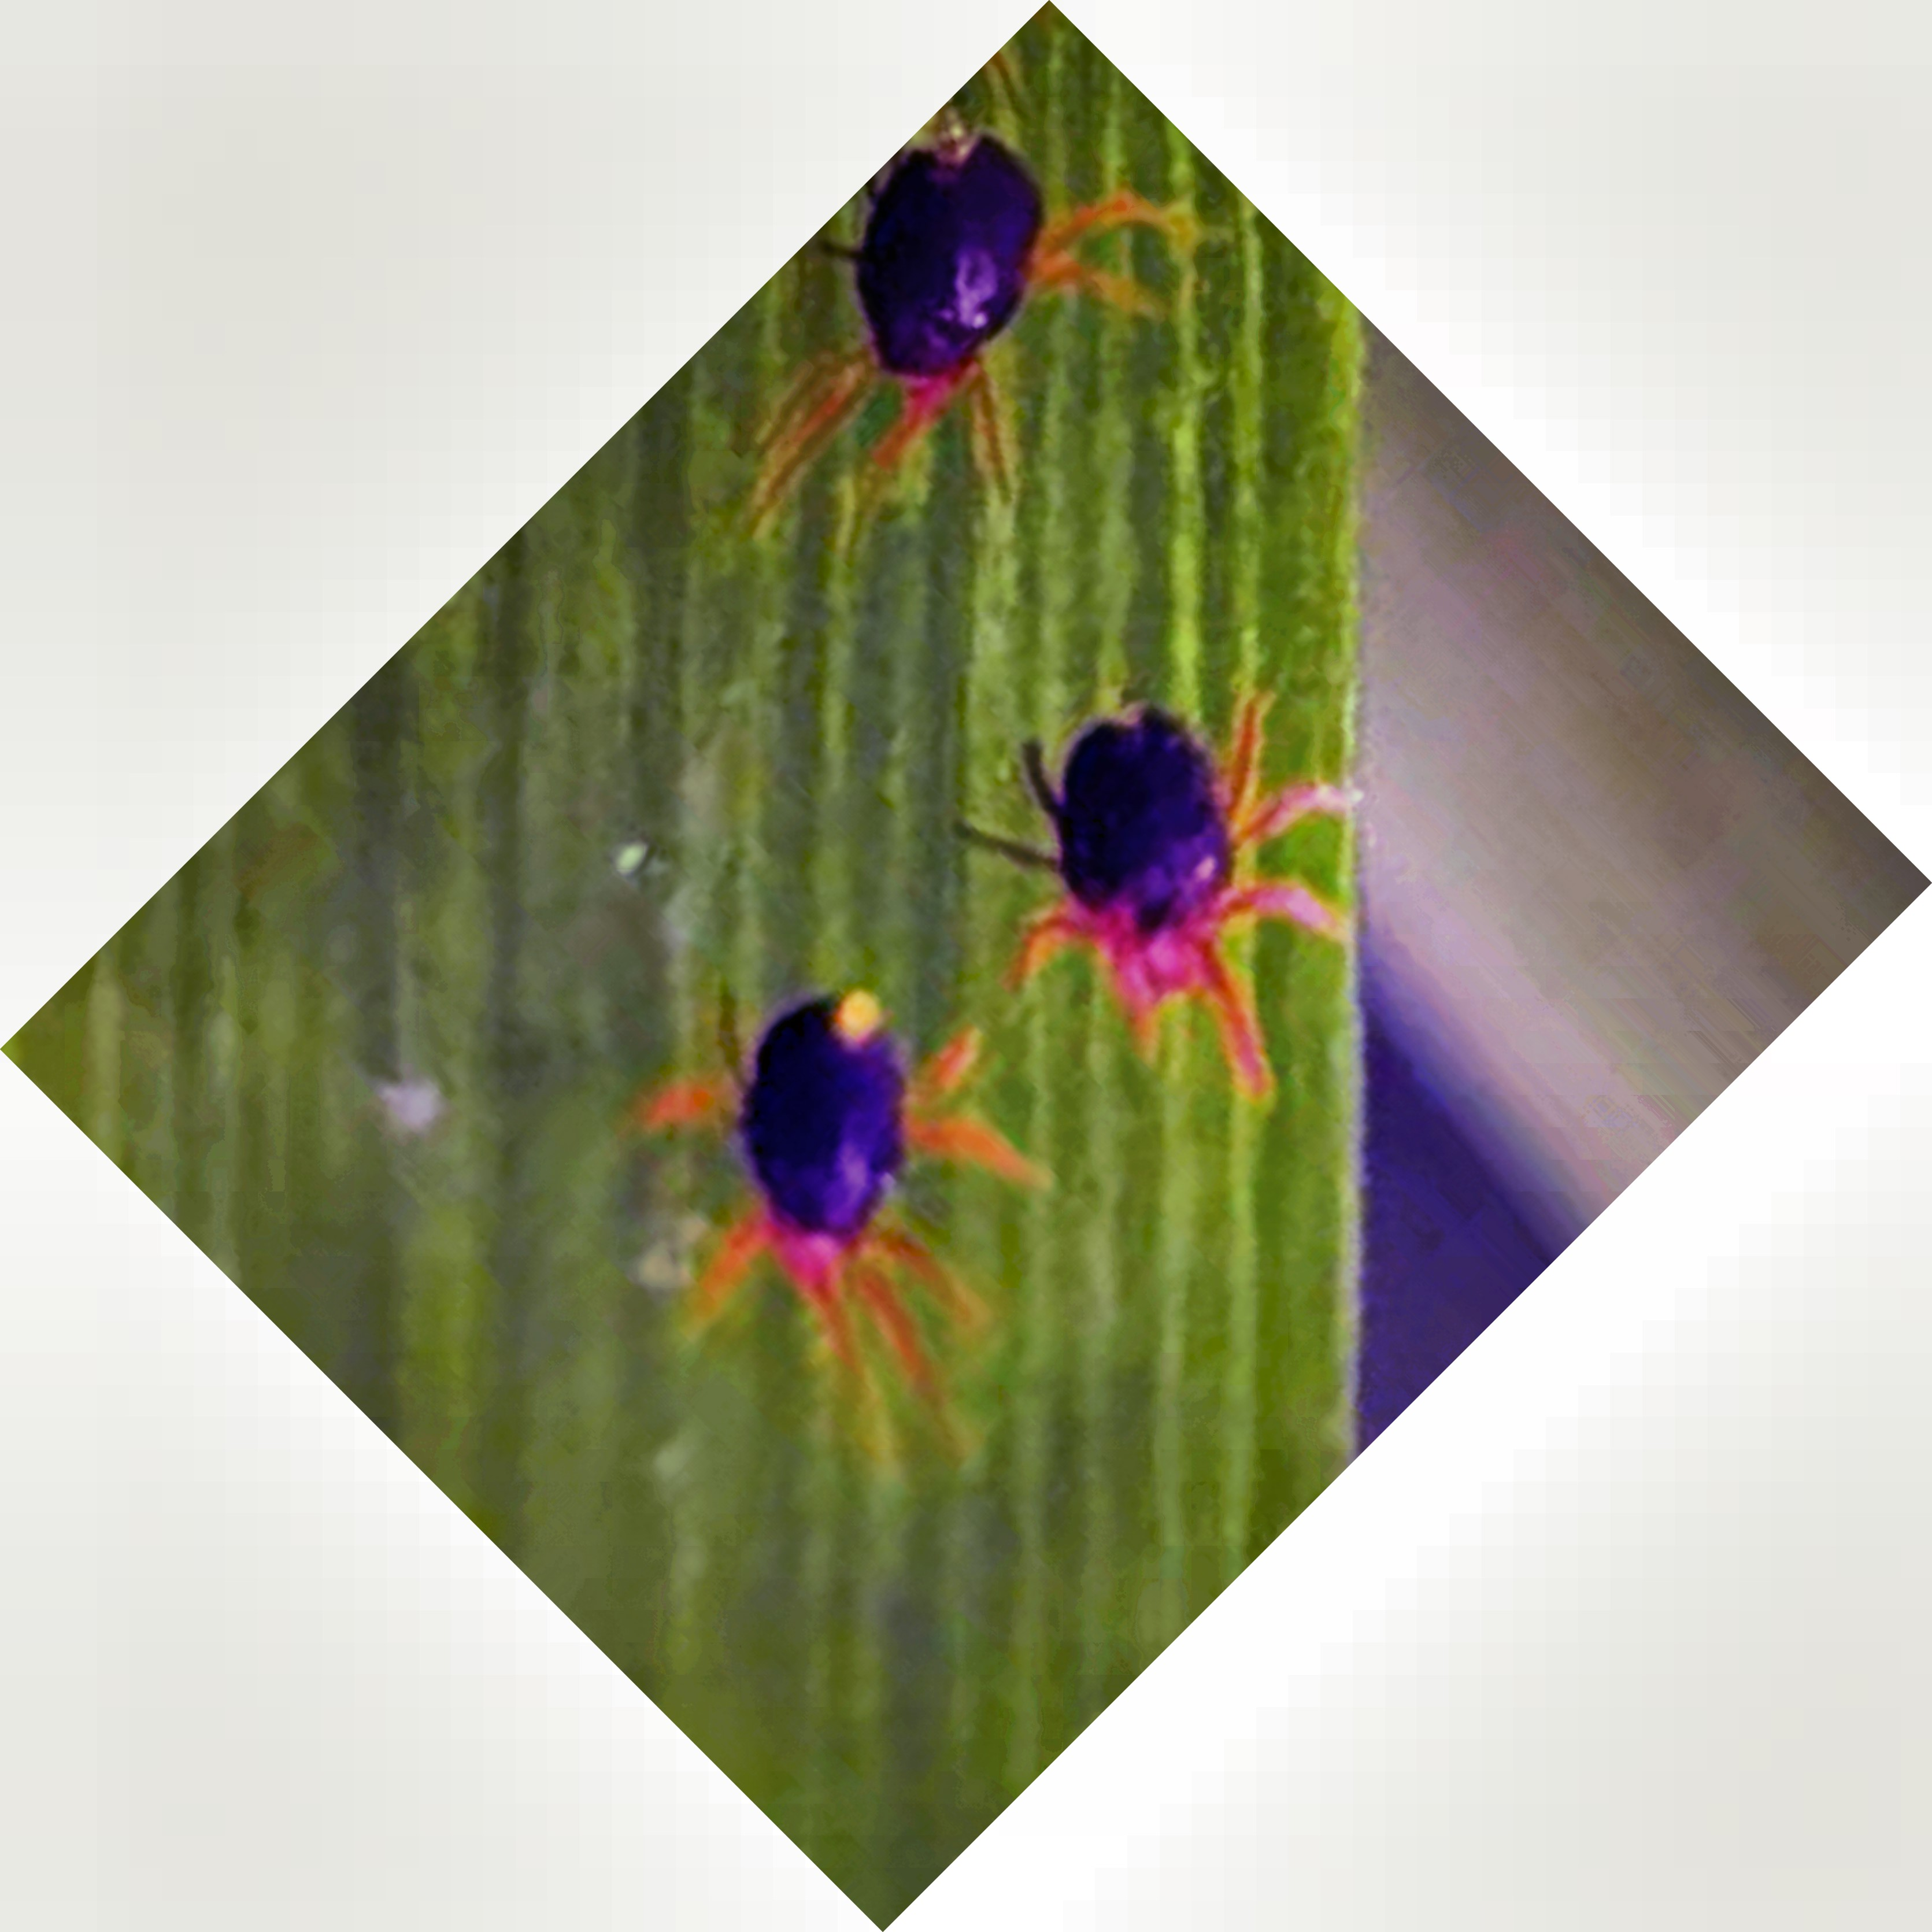Wheat Red Spider: (931, 656, 1410, 1111)
